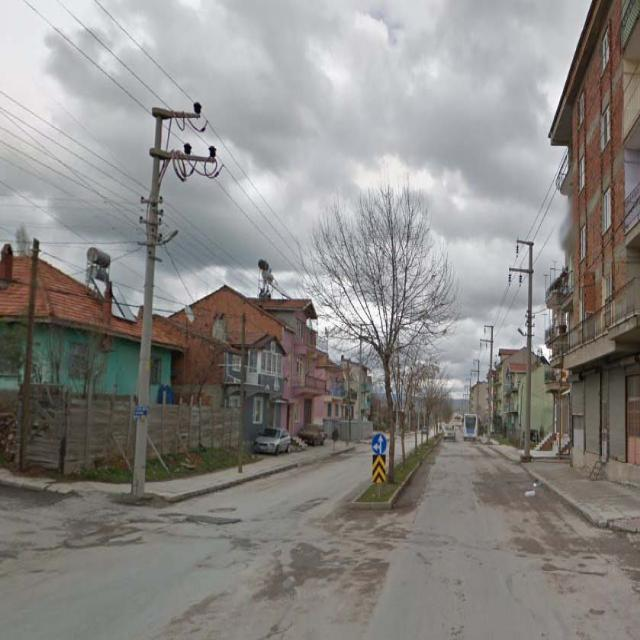ilerisol: (372, 432, 385, 454)
